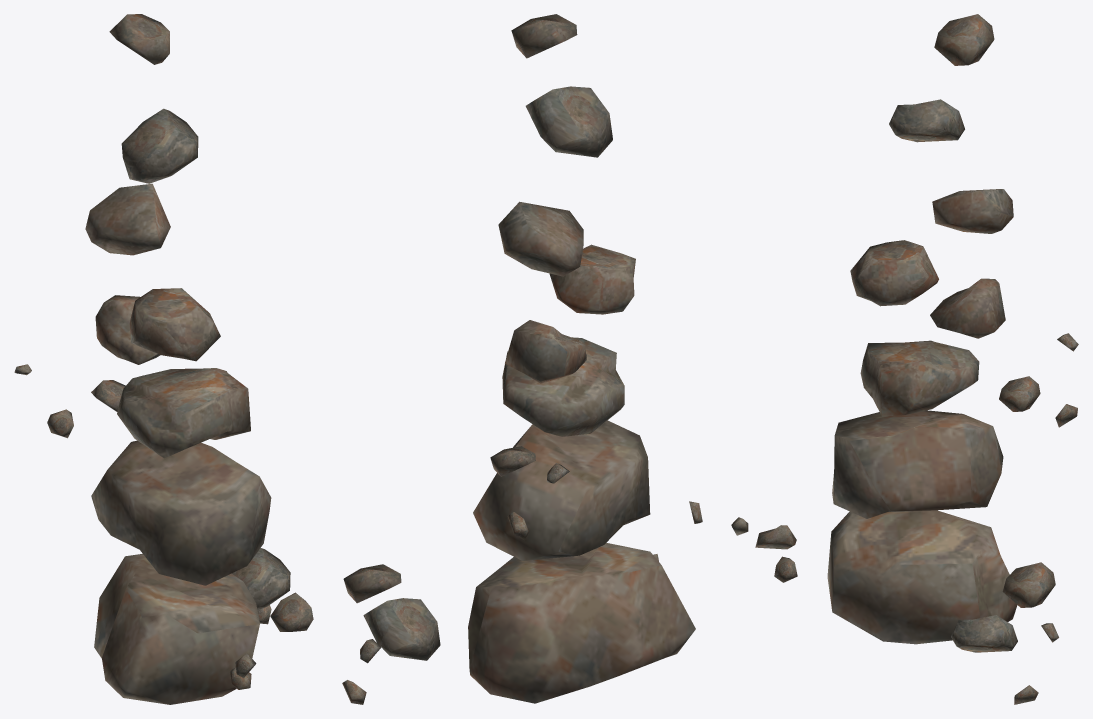
Rendered from bg_rad_kamen_rockdeco01b_sm.obj.
The picture shows the model from 3 angles, left to right: view 1: azimuth 30°, elevation 25°; view 2: azimuth 150°, elevation 25°; view 3: azimuth 270°, elevation 25°; orthographic projection. The views are drawn at different scales.
Visible parts, largest first — view 1: bg_rad_kamen_rockdeco01b_sm_0; view 2: bg_rad_kamen_rockdeco01b_sm_0; view 3: bg_rad_kamen_rockdeco01b_sm_0.
Part boxes in pixels (box(x1,y1,x2,y2)): bg_rad_kamen_rockdeco01b_sm_0: box(14, 14, 313, 704); bg_rad_kamen_rockdeco01b_sm_0: box(342, 14, 702, 704); bg_rad_kamen_rockdeco01b_sm_0: box(731, 14, 1078, 704).
Bounding box in the file's own units: 0.4612 × 1.23 × 0.6276.
1 material, 1 textured.
